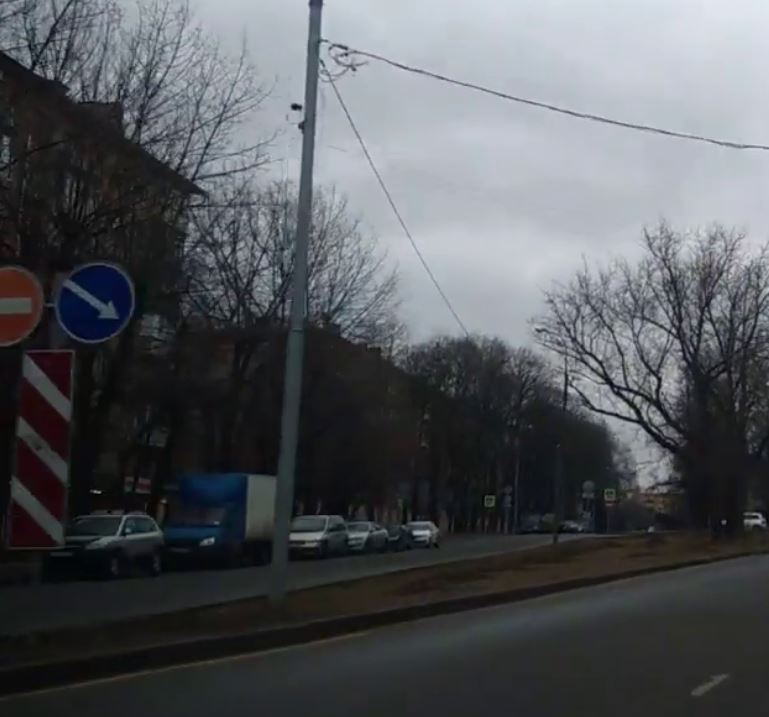Sagdan Git: (61, 261, 137, 347)
